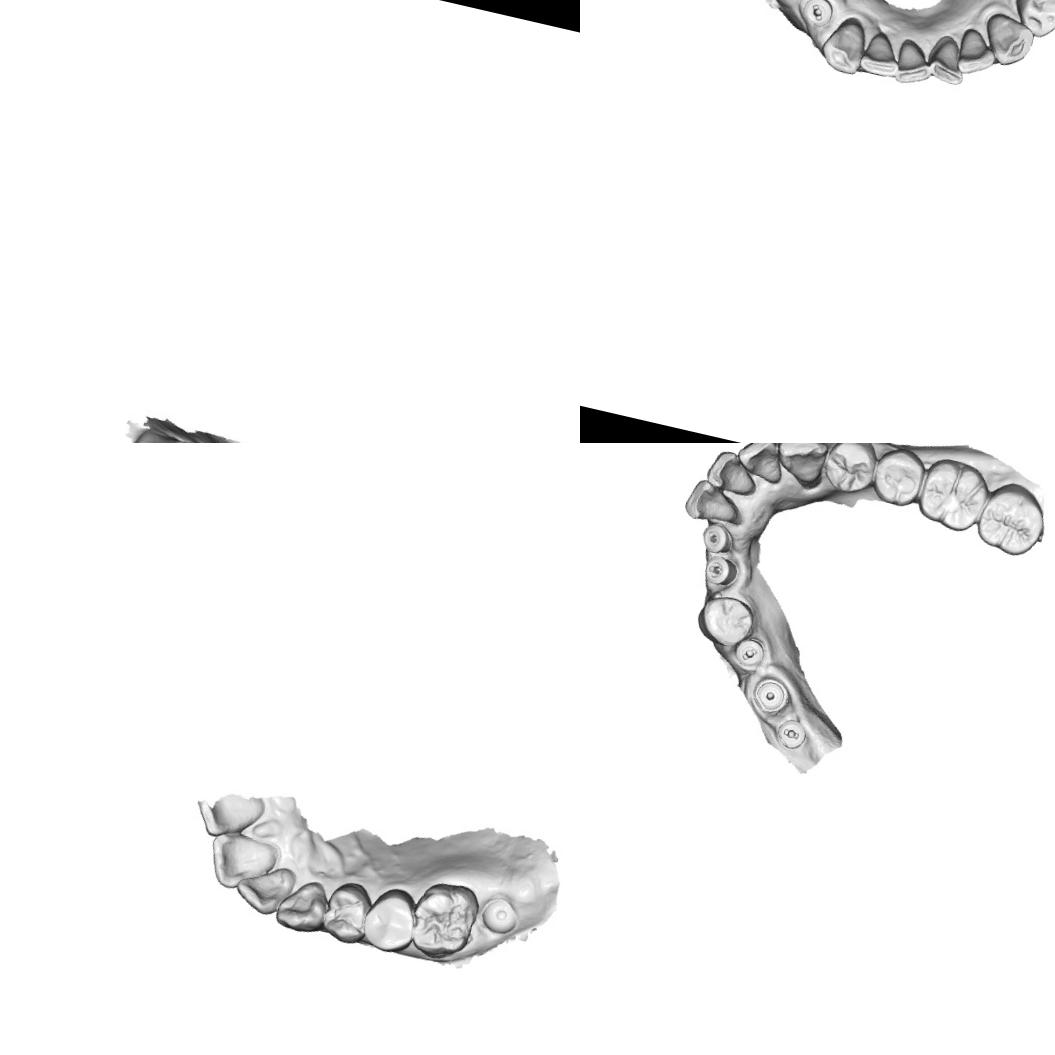canine: (271, 872, 334, 938), (976, 9, 1040, 72), (816, 14, 870, 80), (769, 443, 832, 487)
implant: (476, 894, 524, 940), (748, 674, 792, 718)
implant_minus: (769, 714, 812, 756), (697, 519, 736, 557), (730, 634, 768, 672), (796, 0, 837, 29)
implant_plus: (700, 552, 741, 591)
incisor: (201, 823, 284, 899), (189, 781, 267, 846), (229, 856, 298, 921), (681, 476, 745, 529), (702, 446, 764, 498), (951, 24, 1002, 81), (856, 27, 906, 81), (731, 443, 791, 486), (892, 35, 938, 90), (925, 35, 972, 88)
molar: (404, 874, 484, 964), (912, 453, 994, 538), (972, 476, 1052, 562)
premolar: (356, 880, 422, 958), (318, 876, 379, 950), (692, 590, 760, 653), (867, 443, 929, 510), (818, 443, 883, 499), (1007, 0, 1055, 42)
